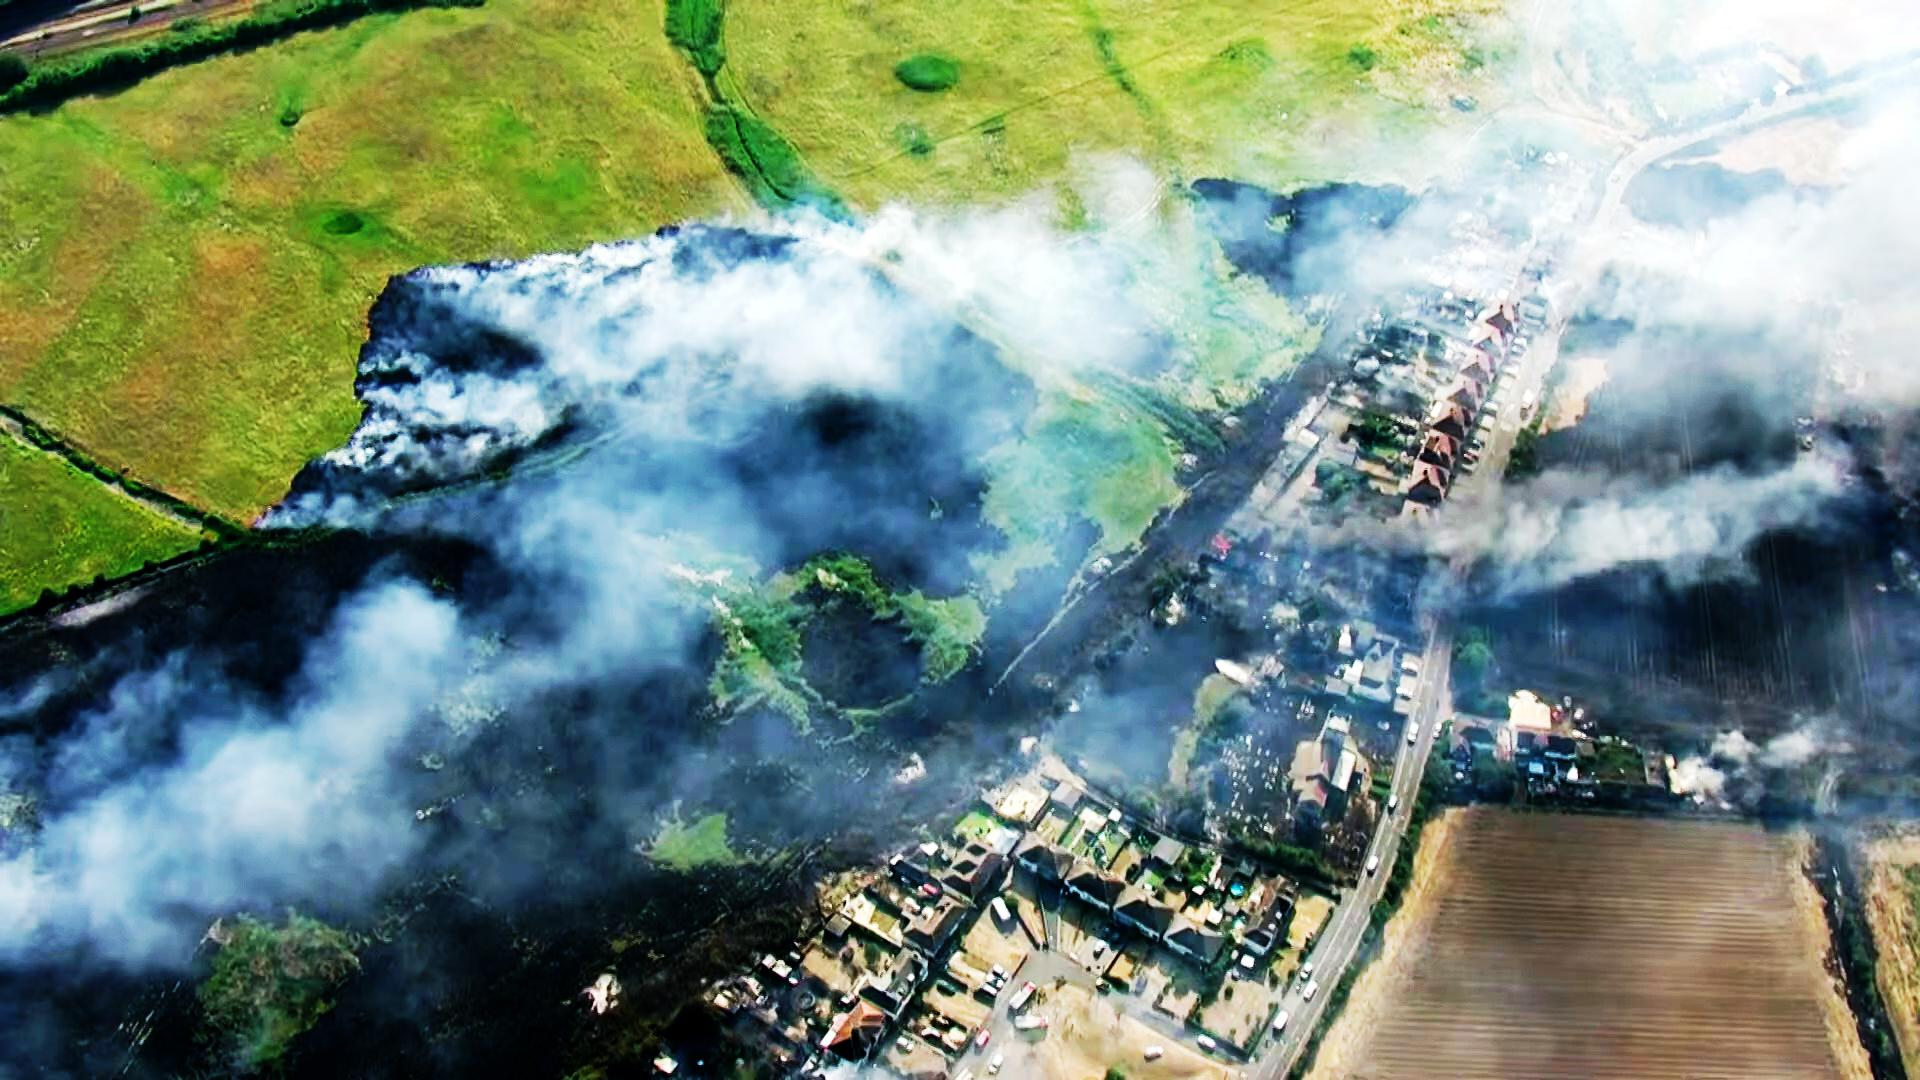smoke: (1551, 471, 1706, 583)
